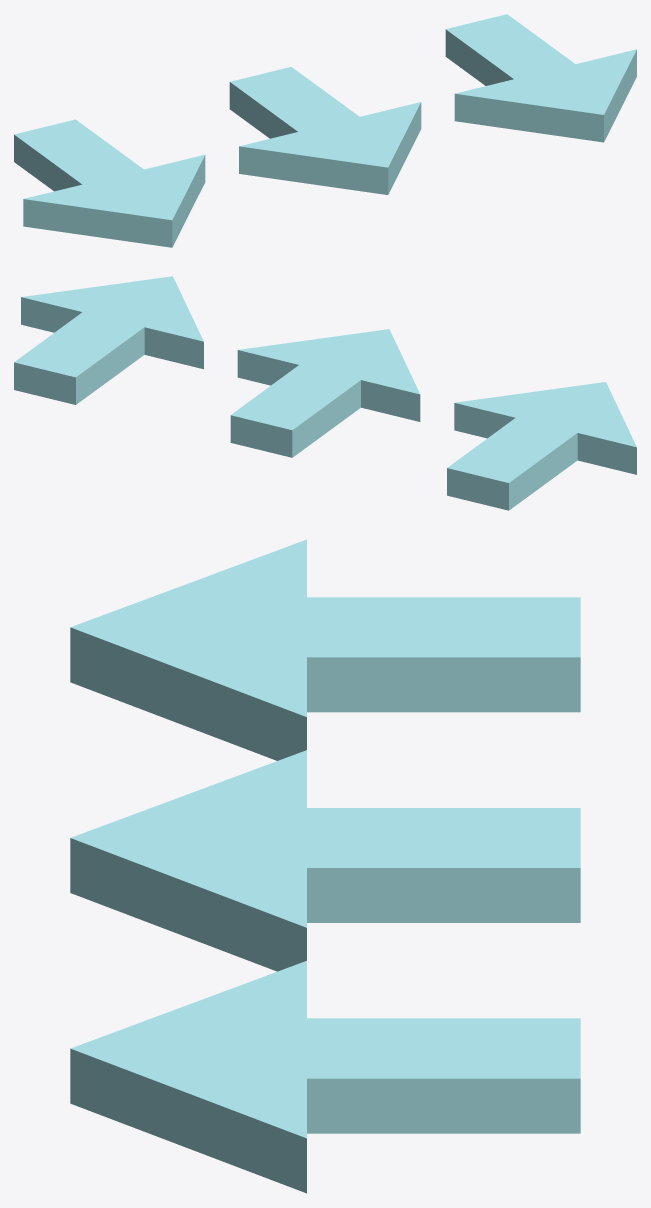
Rendered from DebugArrow.obj.
3 renders of one model, top to bottom at view 1: azimuth 30°, elevation 25°; view 2: azimuth 150°, elevation 25°; view 3: azimuth 270°, elevation 25°, orthographic. The views are drawn at different scales.
Parts seen in each view (by area): view 1: Cube.001; view 2: Cube.001; view 3: Cube.001.
Part boxes in pixels (<box>): Cube.001: <box>14,14,636,247</box>; Cube.001: <box>14,276,636,510</box>; Cube.001: <box>70,539,580,1193</box>.
Size of the model in its own units: 1.99 by 0.0853 by 0.7166.
3 materials, 3 textured.
